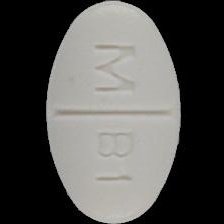0378-1140: (0, 0, 224, 224)
